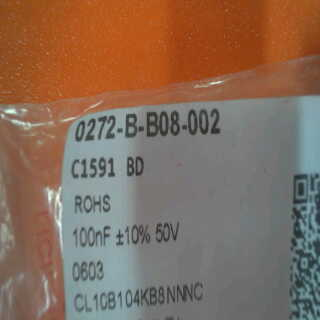100nF: (72, 223, 115, 251)
